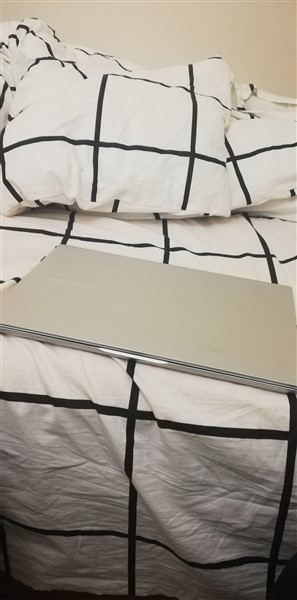laptop: (1, 236, 296, 399)
